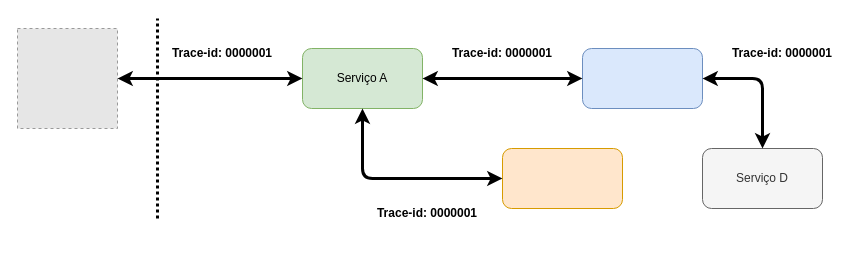
The diagram is 865 pixels wide and 256 high, and some of its shapes have lost their labels. Grey dashed boxes stand in for pictures. Here are the shapes that lost their labels. From the top down, the box of each, then its label:
(582, 48, 702, 108): Serviço B
(502, 148, 622, 208): Serviço C
